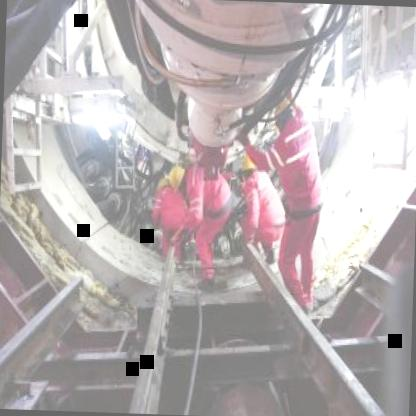helmet: (268, 93, 297, 133), (236, 151, 262, 185), (166, 166, 190, 194)
